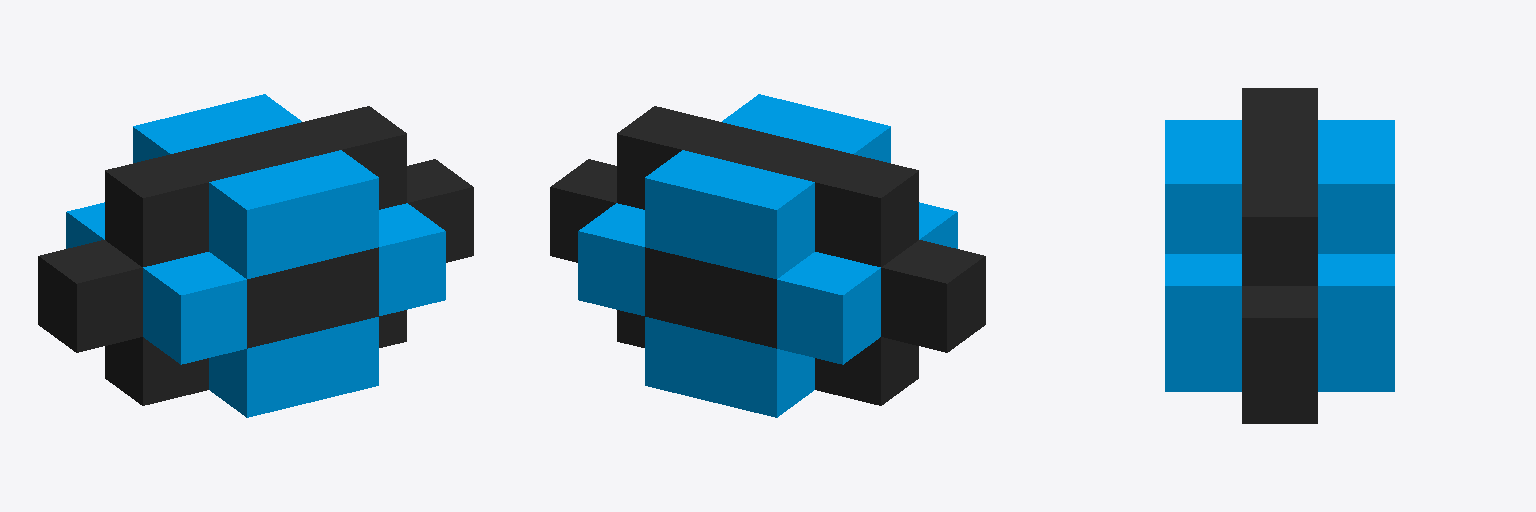
The picture shows the model from 3 angles: view 1: azimuth 30°, elevation 25°; view 2: azimuth 150°, elevation 25°; view 3: azimuth 270°, elevation 25°; orthographic projection.
Visible parts, largest first — view 1: object 1; view 2: object 1; view 3: object 1.
Part boxes in pixels (x1,y1,x2,y2): object 1: (38, 94, 473, 417); object 1: (550, 94, 985, 417); object 1: (1165, 88, 1394, 423).
Size of the model in its own units: 0.6 by 0.3 by 0.3.
1 materials, 1 textured.